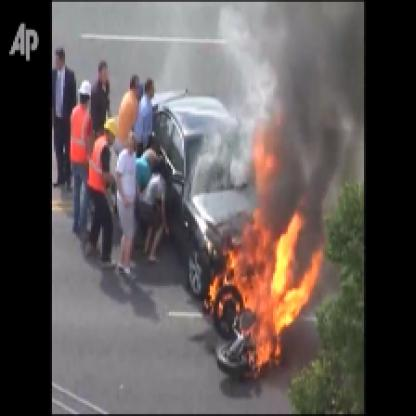Fire: (204, 111, 322, 377)
Smoke: (278, 2, 358, 206)
